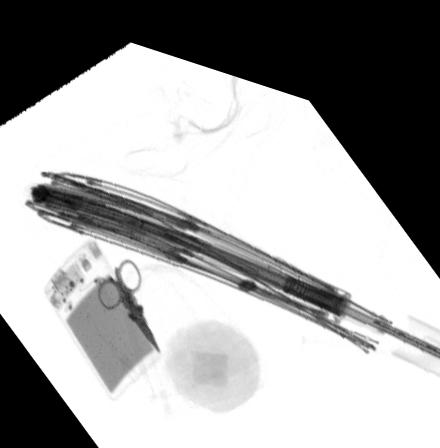Powerbank: (39, 232, 165, 396)
Scissors: (93, 251, 161, 344)
